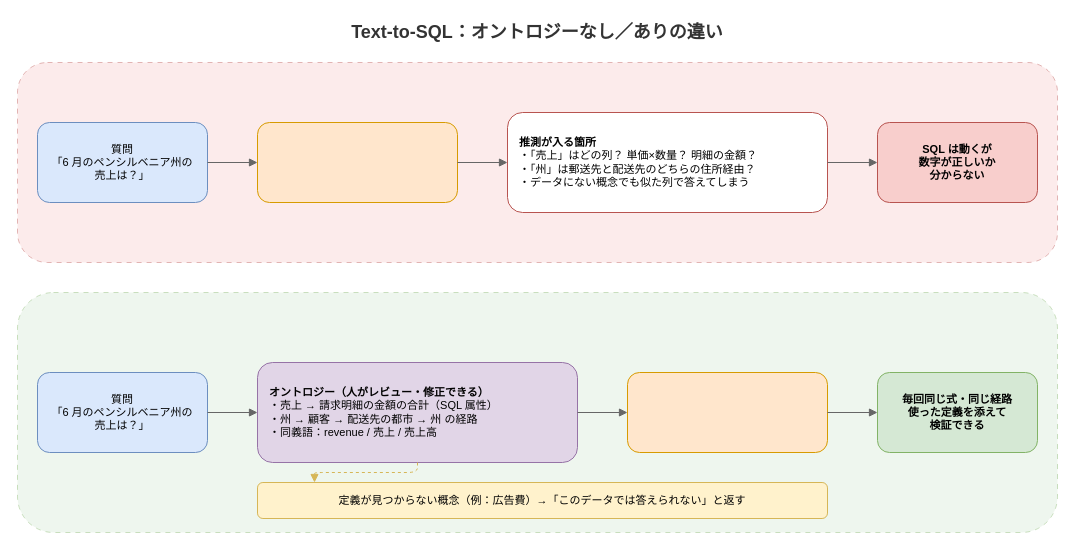
The diagram is 1075 pixels wide and 550 high, and some of its shapes have lost their labels. Here are the shapes that lost their labels. From the top down, the box of each, then its label:
(256, 122, 458, 202): LLM スキーマ（テーブル・列・型） だけを見て SQL を書く
(16, 62, 1058, 262): オントロジーなし — LLM がテーブル名・列名から推測する
(16, 292, 1058, 532): オントロジーあり — 意味は定義済みの知識から引く
(626, 372, 828, 452): LLM 定義に沿って SQL を組み立てる
